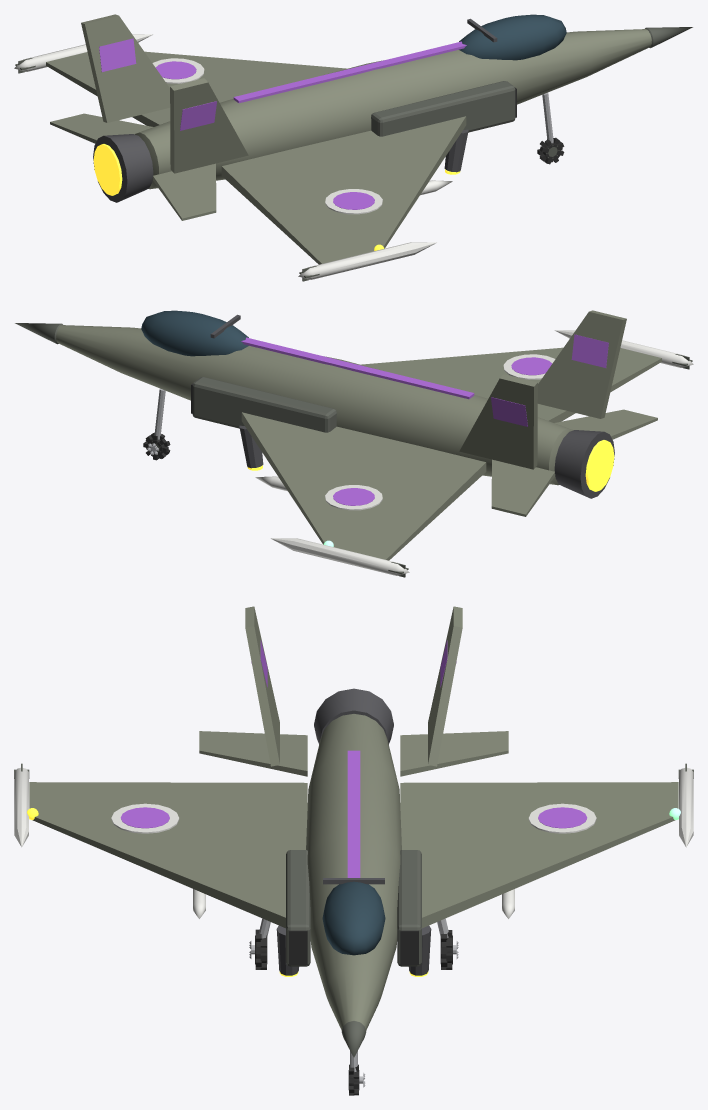
File: fighter_purple.glb
The picture shows the model from 3 angles, top to bottom: view 1: azimuth 30°, elevation 25°; view 2: azimuth 150°, elevation 25°; view 3: azimuth 270°, elevation 25°; orthographic projection. The views are drawn at different scales.
Parts seen in each view (by area): view 1: Body, LandingGearN; view 2: Body, LandingGearN; view 3: Body.
Part boxes in pixels (x1,y1,x2,y2): Body: (14, 14, 692, 281); LandingGearN: (537, 92, 564, 164); Body: (15, 310, 693, 577); LandingGearN: (143, 388, 170, 460); Body: (14, 606, 693, 1057).
Bounding box in the file's own units: 5.13 × 1.77 × 4.4.
1 material, 1 textured.
